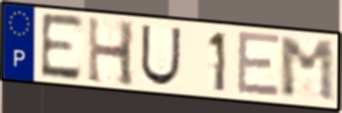1: (206, 29, 228, 93)
E: (235, 29, 283, 99), (39, 11, 85, 83)
H: (86, 14, 137, 89)
M: (277, 36, 339, 105)
U: (138, 22, 184, 88)
